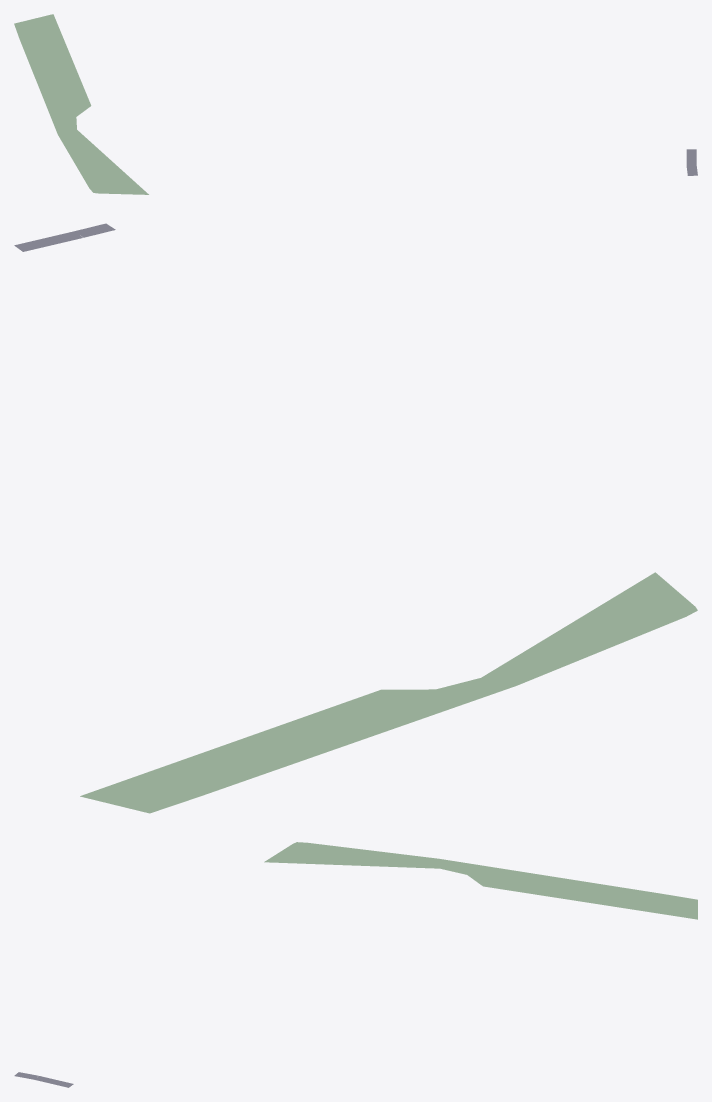
Rendered from 122_121_mid.glb.
3 views of the same model, one above another, from view 1: azimuth 30°, elevation 25°; view 2: azimuth 150°, elevation 25°; view 3: azimuth 270°, elevation 25° (orthographic). The views are drawn at different scales.
Bounding box in the file's own units: 392 × 2.84 × 453.
